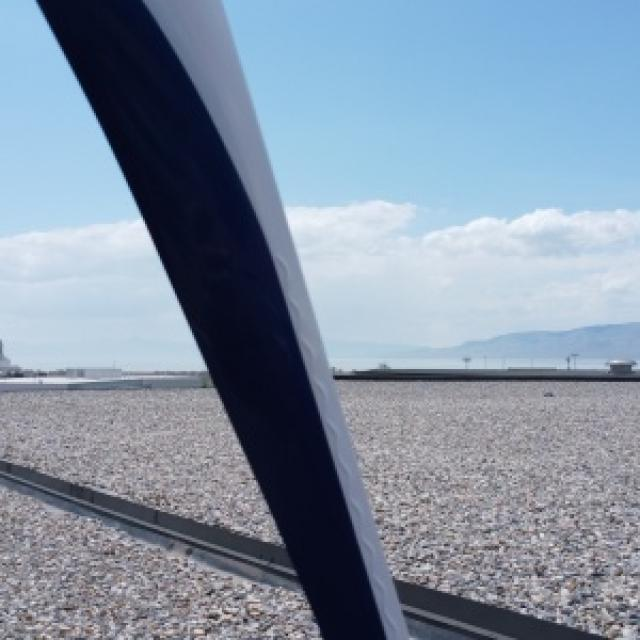healthy: (224, 0, 638, 224)
